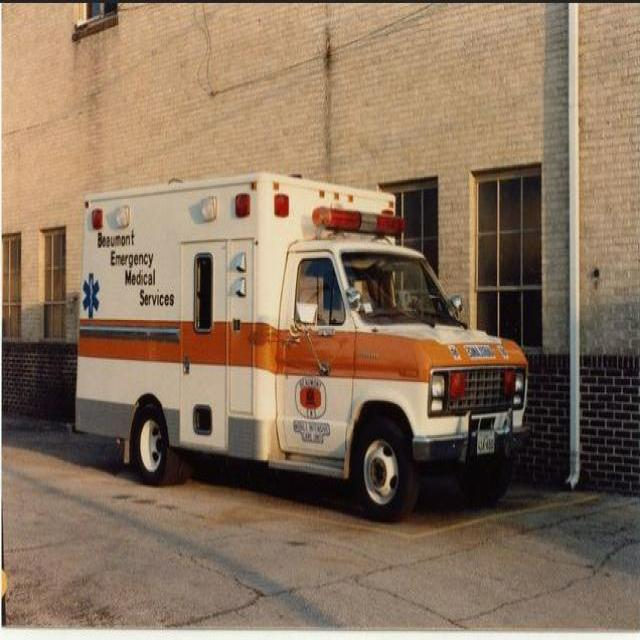emergency-vehicle: (74, 174, 528, 525)
